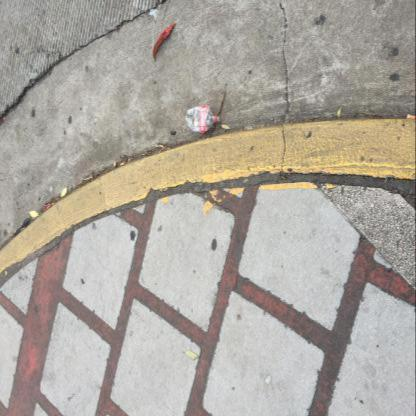Bottle cap: (186, 105, 222, 133)
Cigarette: (407, 116, 415, 119), (121, 162, 124, 164)
